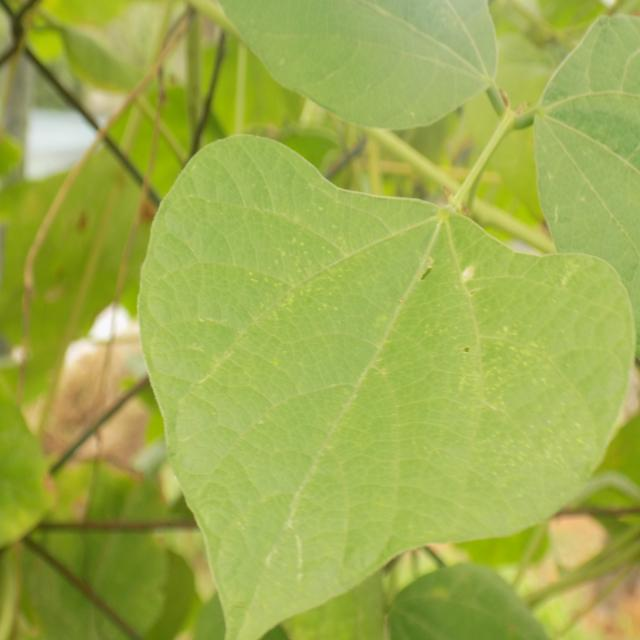Dolicos bean_healthy: (141, 131, 635, 640), (222, 0, 509, 133)
